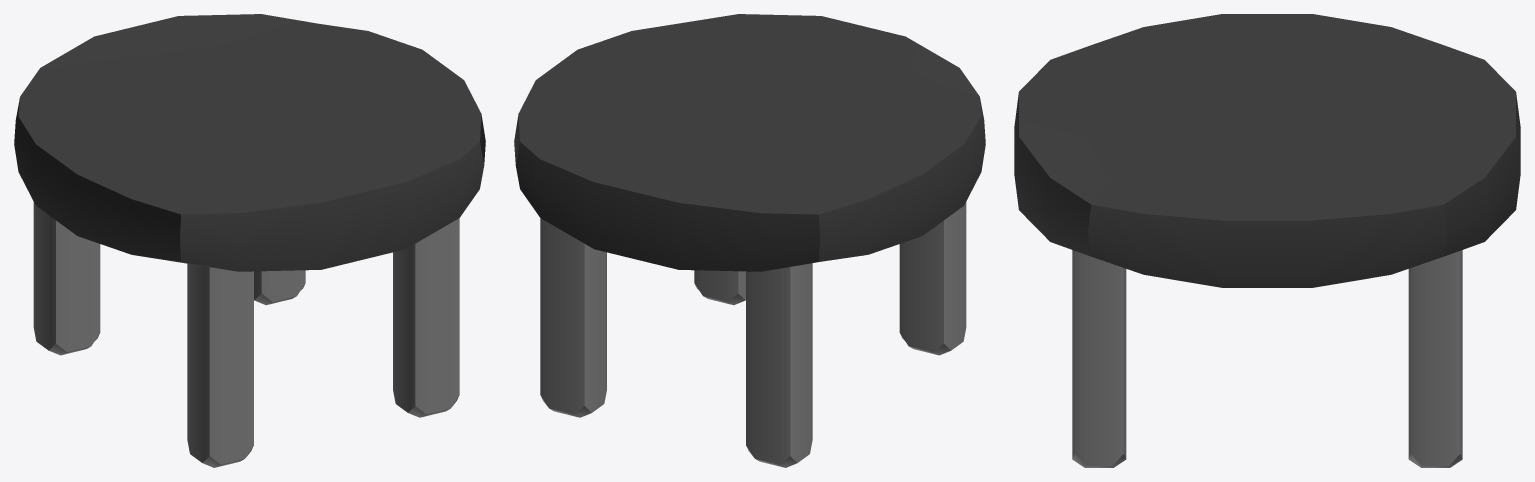
File: Mesh_chair_TL.fbx
3 views of the same model, side by side, from view 1: azimuth 30°, elevation 25°; view 2: azimuth 150°, elevation 25°; view 3: azimuth 270°, elevation 25° (orthographic). The views are drawn at different scales.
Visible parts, largest first — view 1: Mesh_chair_TL; view 2: Mesh_chair_TL; view 3: Mesh_chair_TL.
Boxes of the visible parts, bbox=[...] form: Mesh_chair_TL: bbox=[14, 14, 485, 467]; Mesh_chair_TL: bbox=[514, 14, 985, 467]; Mesh_chair_TL: bbox=[1014, 14, 1520, 467].
Size of the model in its own units: 110 by 71.35 by 112.
